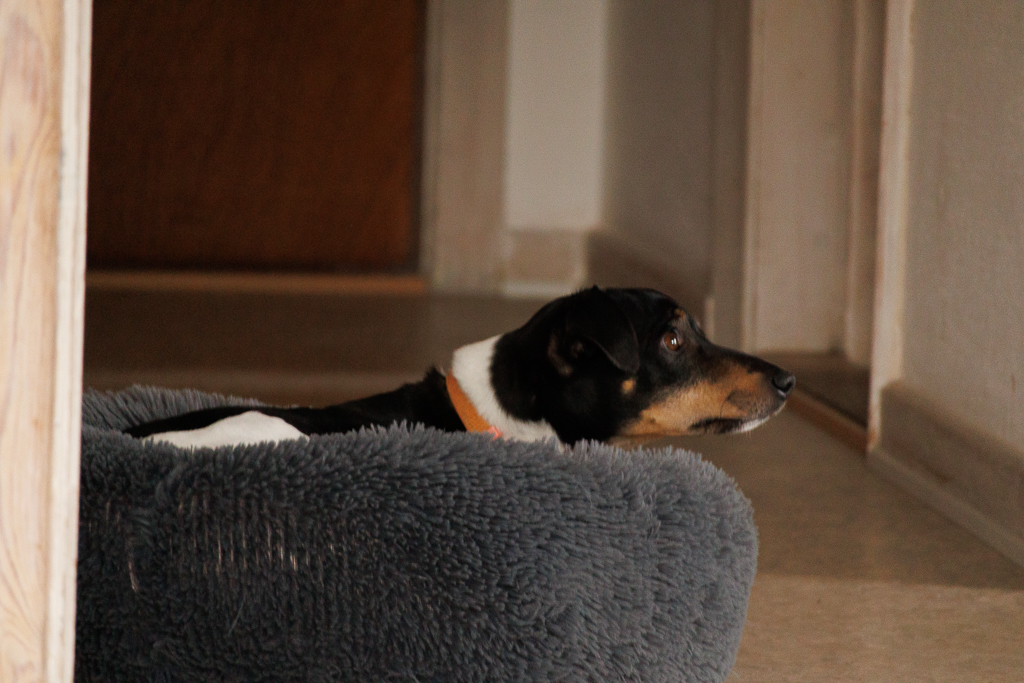Dog: (102, 269, 810, 476)
